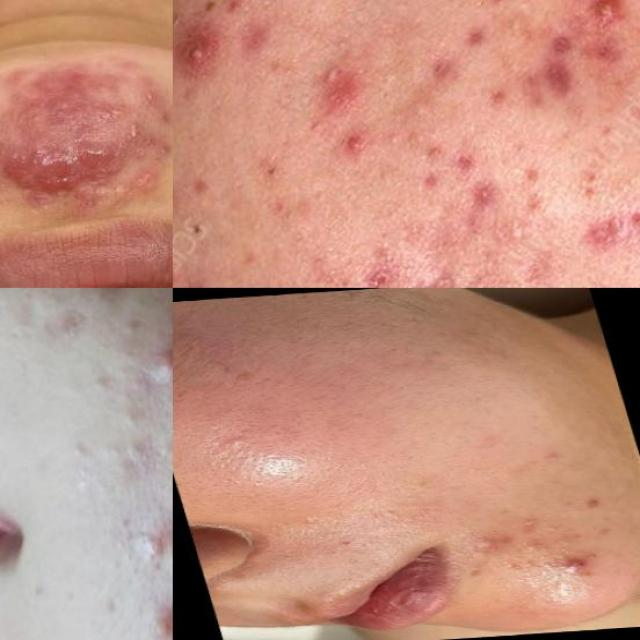acne_scars: (298, 36, 390, 131), (562, 200, 640, 260)
comedone: (68, 352, 124, 402), (207, 428, 256, 456), (505, 508, 545, 534), (499, 554, 526, 572), (542, 519, 564, 535)
papule: (17, 128, 140, 195), (519, 22, 599, 118), (18, 64, 96, 124), (115, 516, 173, 574), (115, 67, 173, 121), (134, 334, 173, 389), (52, 185, 108, 217), (454, 530, 519, 556), (333, 125, 377, 162), (129, 172, 169, 208), (137, 122, 173, 161), (550, 552, 600, 575), (578, 496, 608, 511)
pustule: (138, 578, 173, 639), (577, 0, 640, 31), (173, 35, 213, 75)
